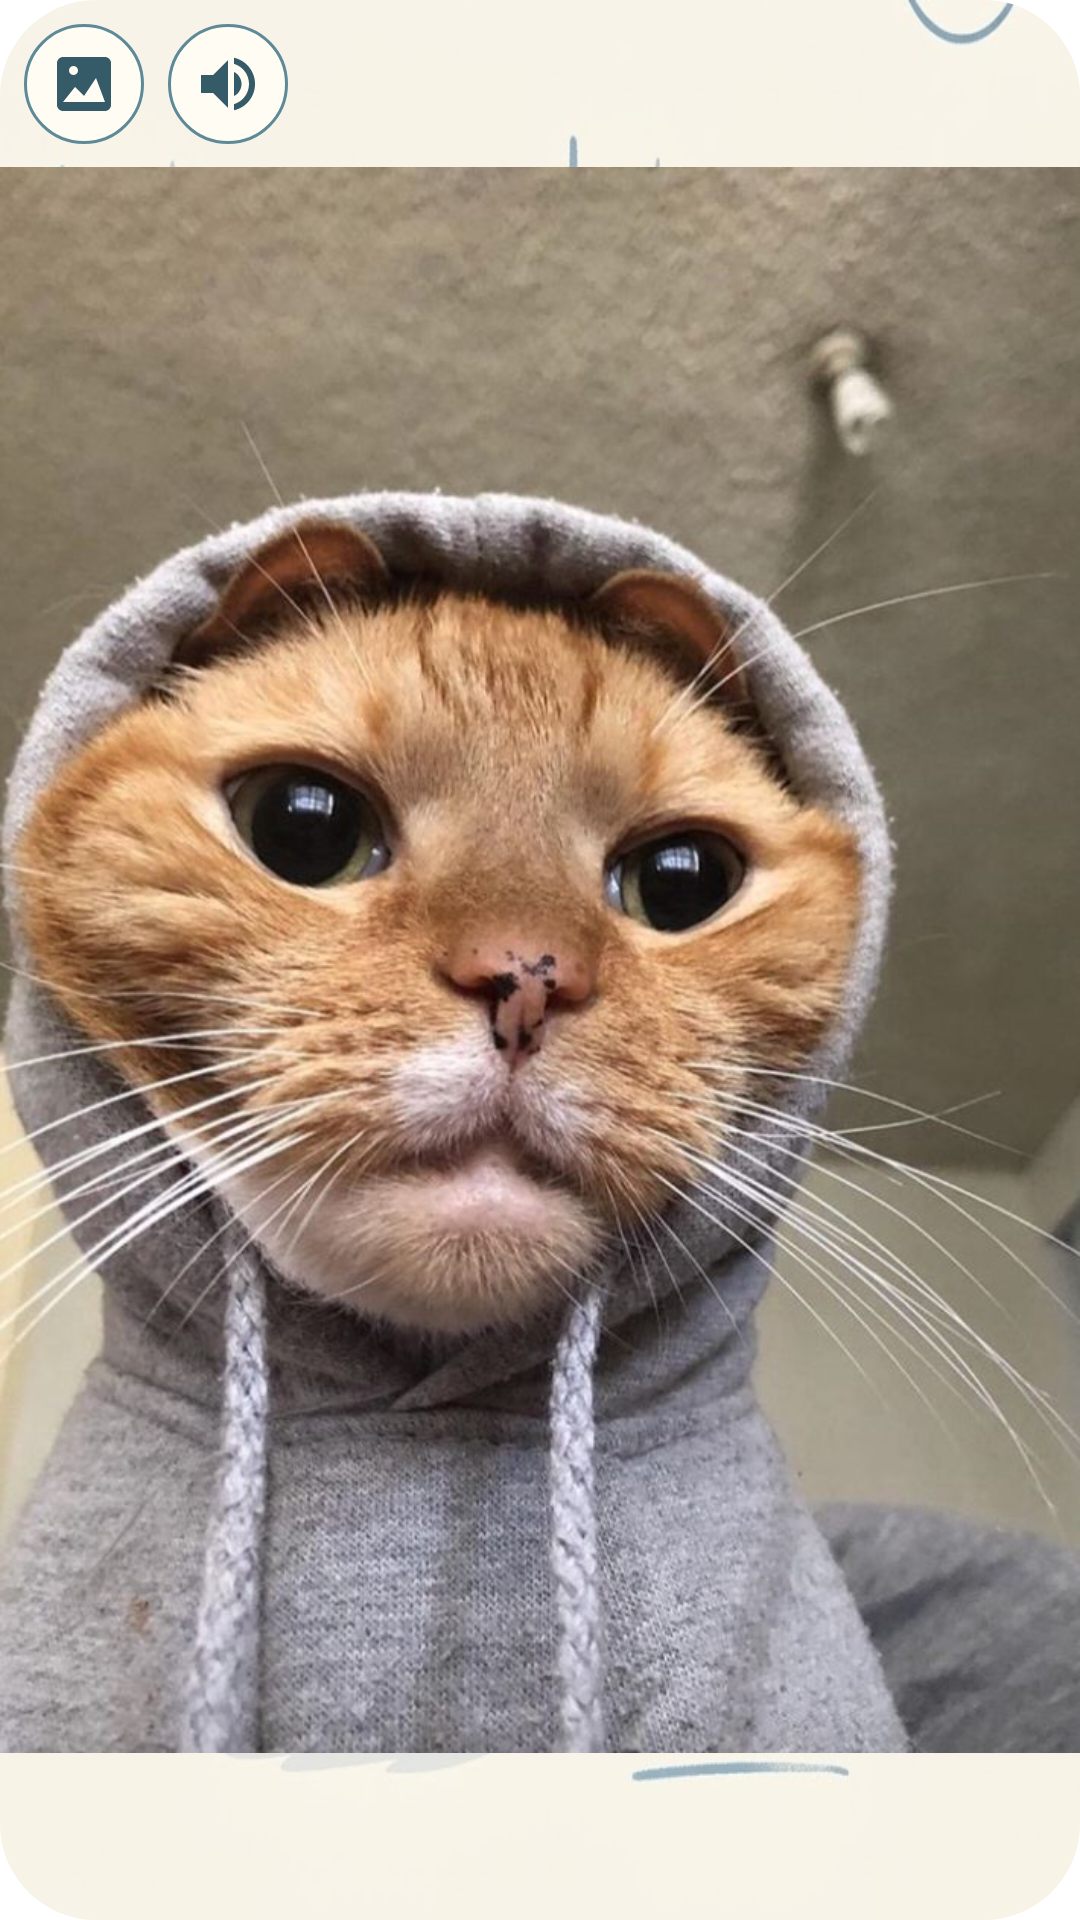

Locate icon controls on the screen. Image size 1080px×1920px, boxes as (x1, y1, x2, y2).
Toggle cat sounds: (168, 24, 288, 144)
